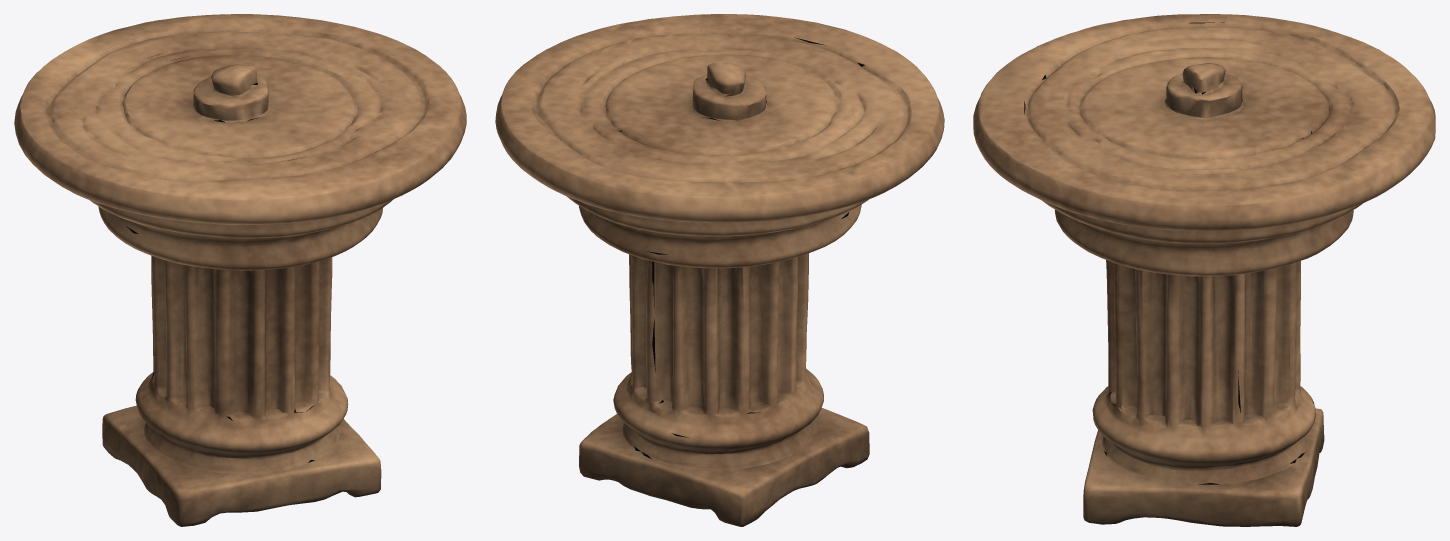
Rendered from pedestal-sundial-v002.glb.
3 renders of one model, left to right at view 1: azimuth 30°, elevation 25°; view 2: azimuth 150°, elevation 25°; view 3: azimuth 270°, elevation 25°, orthographic. The views are drawn at different scales.
Visible parts, largest first — view 1: pedestal-sundial; view 2: pedestal-sundial; view 3: pedestal-sundial.
Boxes of the visible parts, box(x1,y1,x2,y2) form: pedestal-sundial: box(14, 14, 466, 526); pedestal-sundial: box(495, 14, 944, 526); pedestal-sundial: box(973, 14, 1435, 526).
Size of the model in its own units: 0.8985 by 0.8876 by 0.8957.
Materials: 1 (1 with a texture image).
